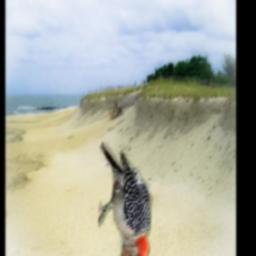Woodpecker: (97, 135, 156, 256)
